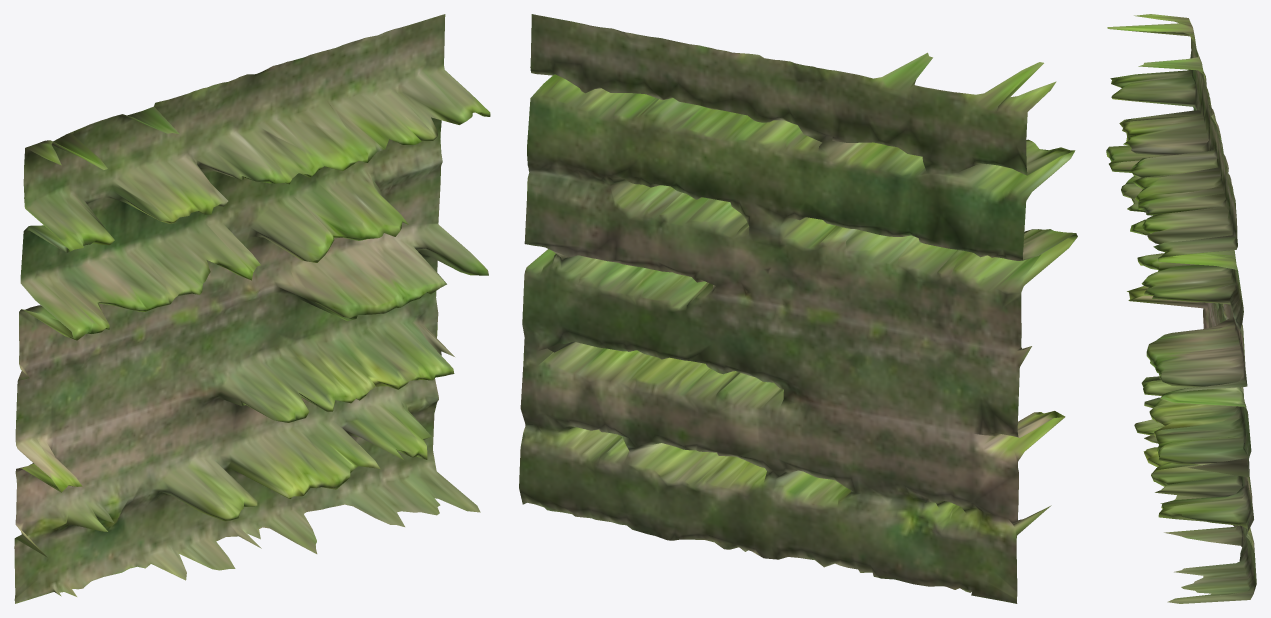
File: map_140_60.obj
3 renders of one model, left to right at view 1: azimuth 30°, elevation 25°; view 2: azimuth 150°, elevation 25°; view 3: azimuth 270°, elevation 25°, orthographic. The views are drawn at different scales.
Parts seen in each view (by area): view 1: map_140_60.obj; view 2: map_140_60.obj; view 3: map_140_60.obj.
Part boxes in pixels (bbox=[...]): map_140_60.obj: bbox=[14, 14, 490, 603]; map_140_60.obj: bbox=[519, 14, 1077, 603]; map_140_60.obj: bbox=[1106, 14, 1256, 603].
Bounding box in the file's own units: 10 × 10 × 3.39.
Materials: 1 (1 with a texture image).
